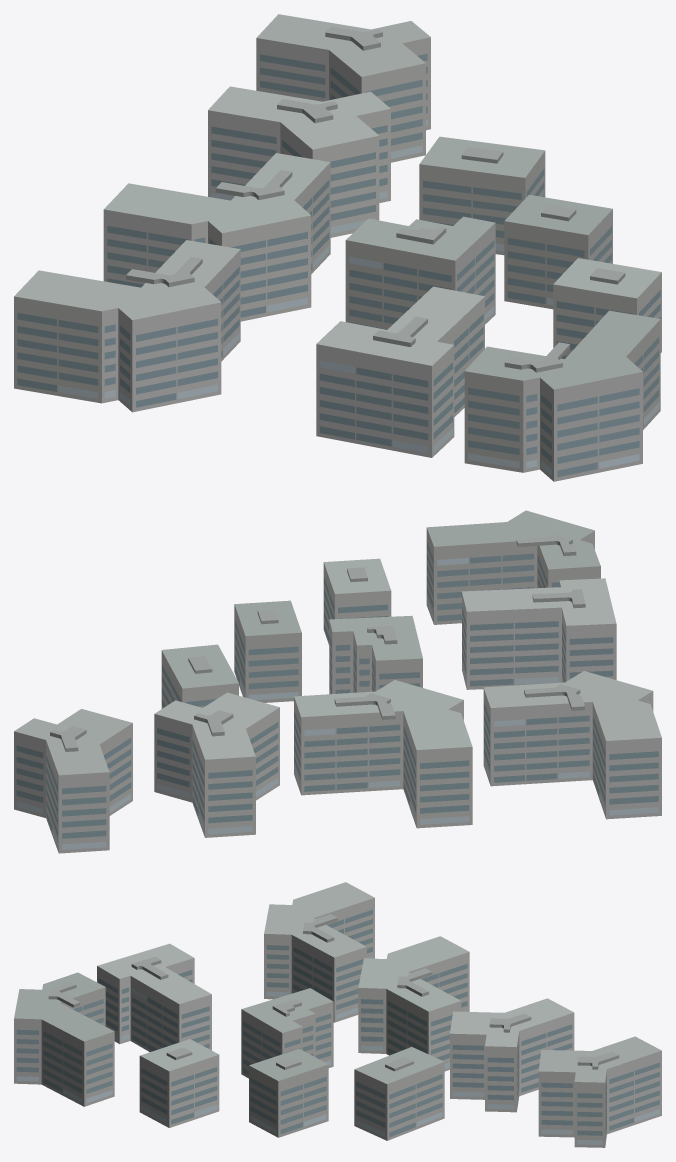
File: apt-a13716001.glb
3 views of the same model, one above another, from view 1: azimuth 30°, elevation 25°; view 2: azimuth 150°, elevation 25°; view 3: azimuth 270°, elevation 25° (orthographic). The views are drawn at different scales.
Visible parts, largest first — view 1: apt-a13716001; view 2: apt-a13716001; view 3: apt-a13716001.
Boxes of the visible parts, x1,y1,x2,y2 form: apt-a13716001: (14,14,661,481); apt-a13716001: (14,510,661,853); apt-a13716001: (14,882,661,1147).
Size of the model in its own units: 145 by 23 by 198.
